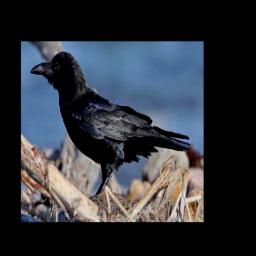Crow: (30, 51, 194, 202)
